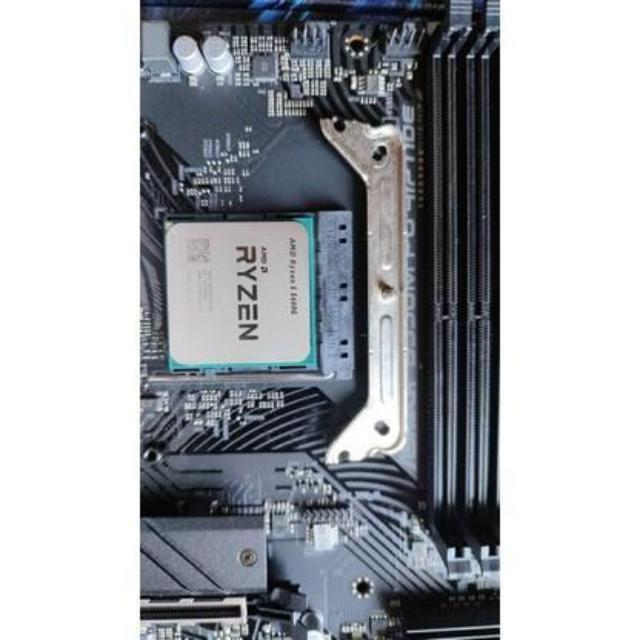CPU: (160, 216, 323, 374)
